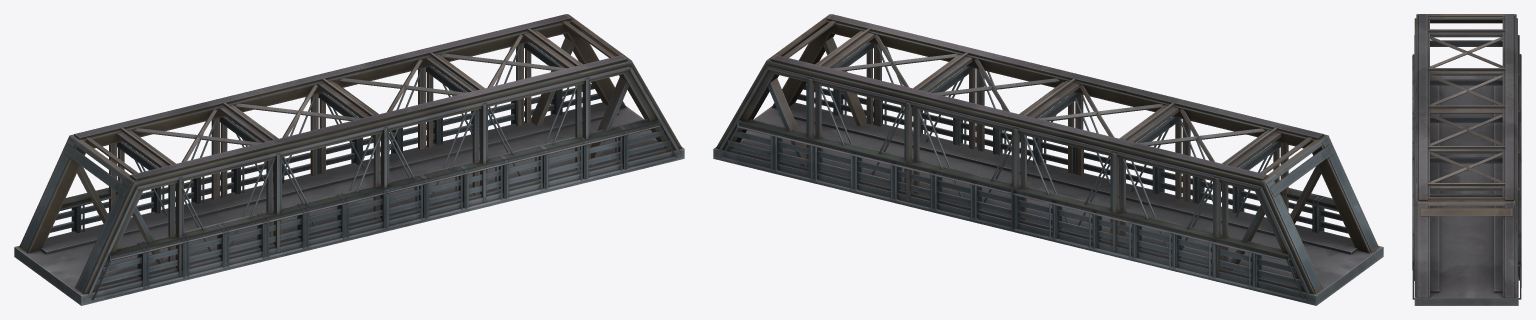
The model's file is city_metal_bridge_runtime.glb.
The picture shows the model from 3 angles, left to right: view 1: azimuth 30°, elevation 25°; view 2: azimuth 150°, elevation 25°; view 3: azimuth 270°, elevation 25°; orthographic projection. The views are drawn at different scales.
Visible parts, largest first — view 1: city_metal_bridge_runtime; view 2: city_metal_bridge_runtime; view 3: city_metal_bridge_runtime.
Part boxes in pixels (x1,y1,x2,y2): city_metal_bridge_runtime: [14, 14, 684, 305]; city_metal_bridge_runtime: [713, 14, 1383, 305]; city_metal_bridge_runtime: [1412, 14, 1521, 305].
Size of the model in its own units: 19.98 by 3.51 by 4.07.
Materials: 1 (1 with a texture image).
